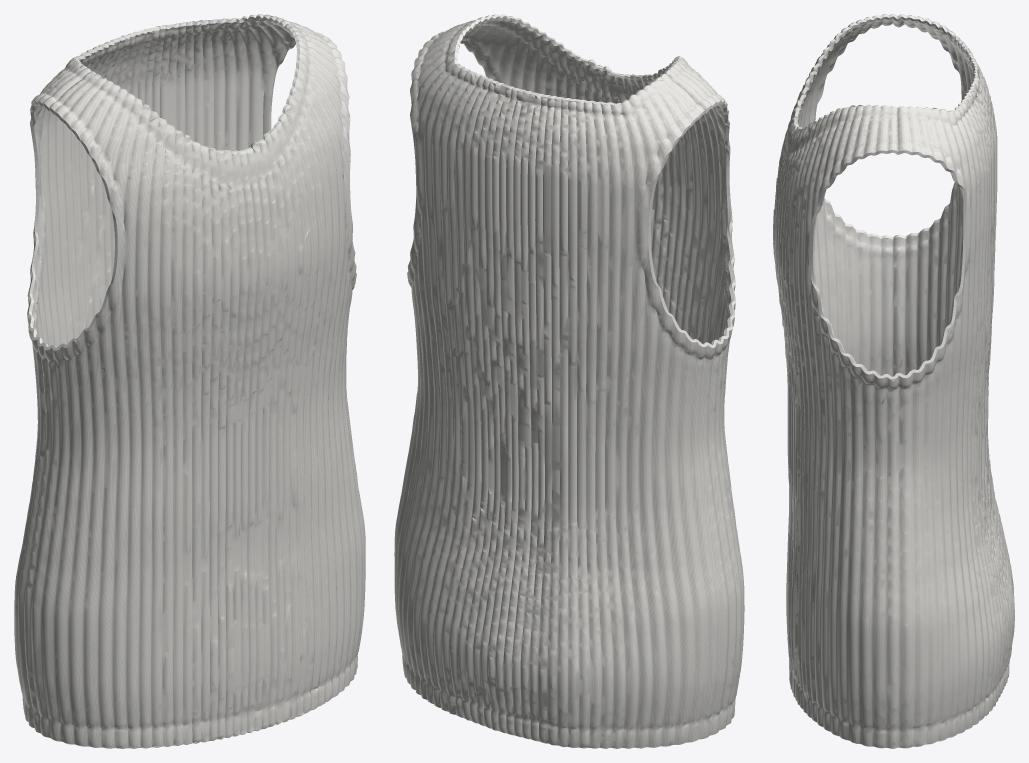
File: 02_tirantes_canale_pbr.glb
The picture shows the model from 3 angles, left to right: view 1: azimuth 30°, elevation 25°; view 2: azimuth 150°, elevation 25°; view 3: azimuth 270°, elevation 25°; orthographic projection. The views are drawn at different scales.
Parts seen in each view (by area): view 1: Camiseta PBR; view 2: Camiseta PBR; view 3: Camiseta PBR.
Boxes of the visible parts, x1=… form: Camiseta PBR: x1=14, y1=14, x2=365, y2=748; Camiseta PBR: x1=394, y1=14, x2=744, y2=748; Camiseta PBR: x1=773, y1=14, x2=1014, y2=748.
Bounding box in the file's own units: 0.3677 × 0.6857 × 0.2433.
1 material, 1 textured.
